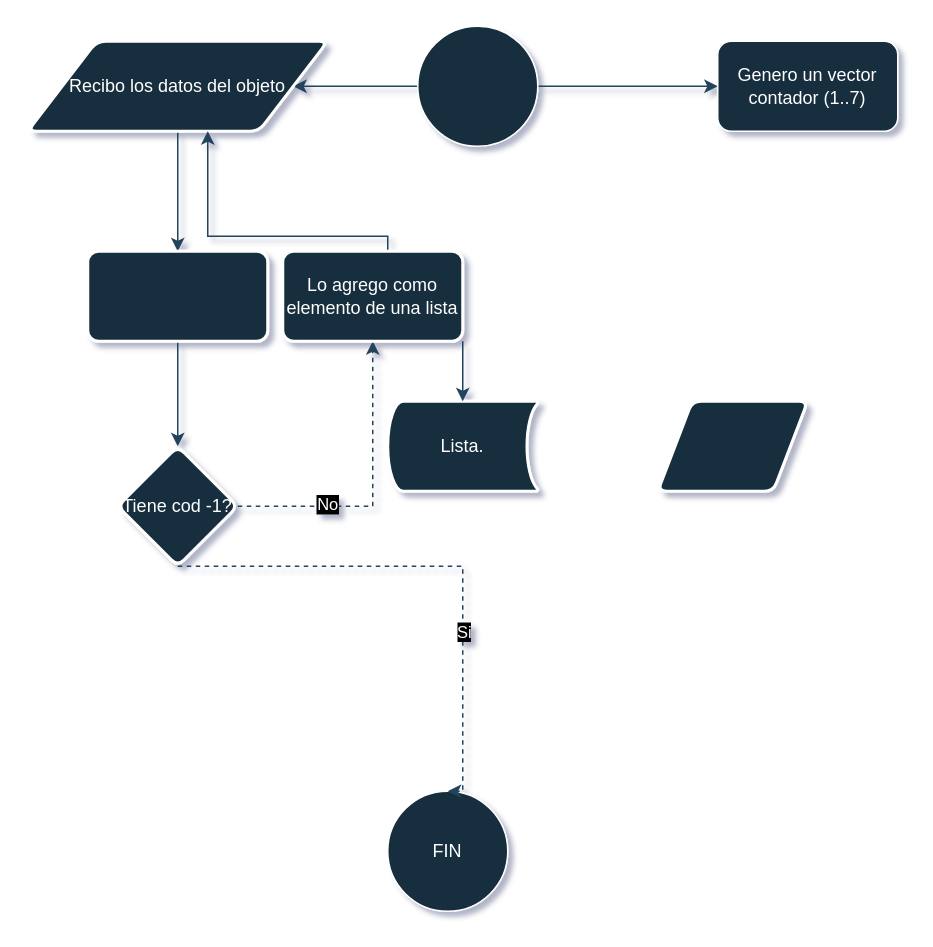
This 933x947 diagram has some shape labels left out. The box of each missing label's shape, as (x1, y1, x2, y2) in pixels:
COMIENZO: (416, 25, 538, 146)
Leo los datos del objeto: (86, 249, 268, 342)
Recibo lista.: (656, 399, 808, 492)
